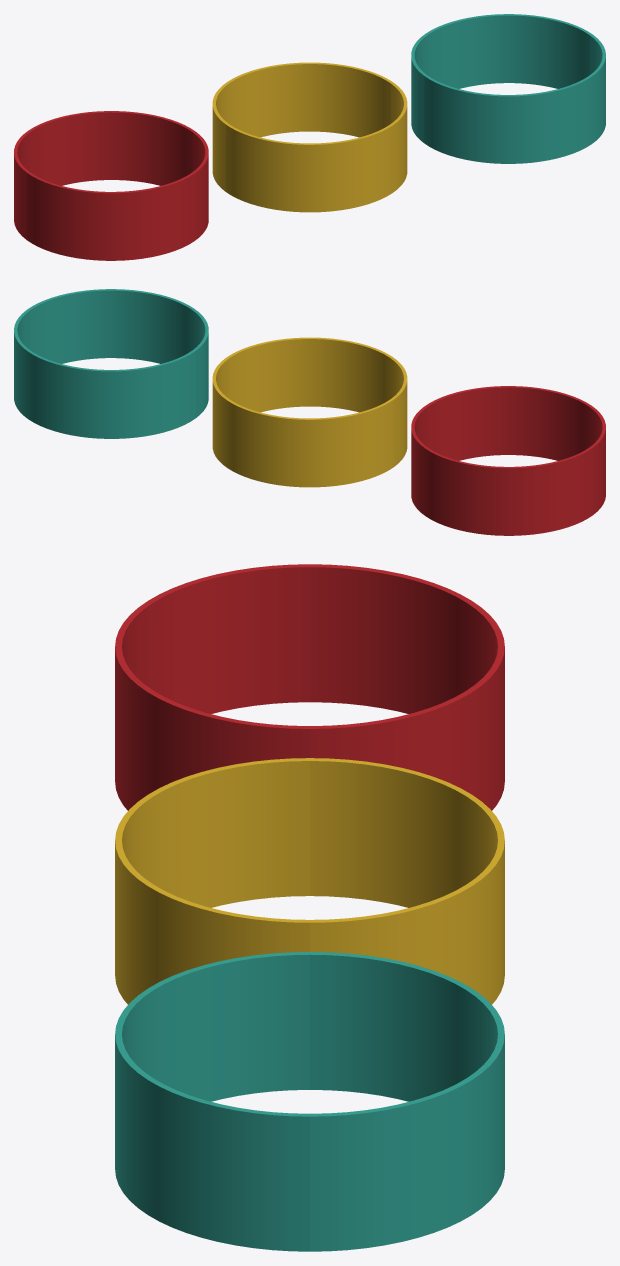
File: red_mud_washer_pressure.glb
3 renders of one model, top to bottom at view 1: azimuth 30°, elevation 25°; view 2: azimuth 150°, elevation 25°; view 3: azimuth 270°, elevation 25°, orthographic. The views are drawn at different scales.
Visible parts, largest first — view 1: pressure__front, pressure__back; view 2: pressure__back, pressure__front; view 3: pressure__back, pressure__front.
Part boxes in pixels (<box>): pressure__front: <box>27,34,605,260</box>; pressure__back: <box>14,14,592,239</box>; pressure__back: <box>14,309,592,535</box>; pressure__front: <box>27,289,605,514</box>; pressure__back: <box>310,564,504,1251</box>; pressure__front: <box>115,564,309,1251</box>.
Bounding box in the file's own units: 5.7 × 0.65 × 1.7.
